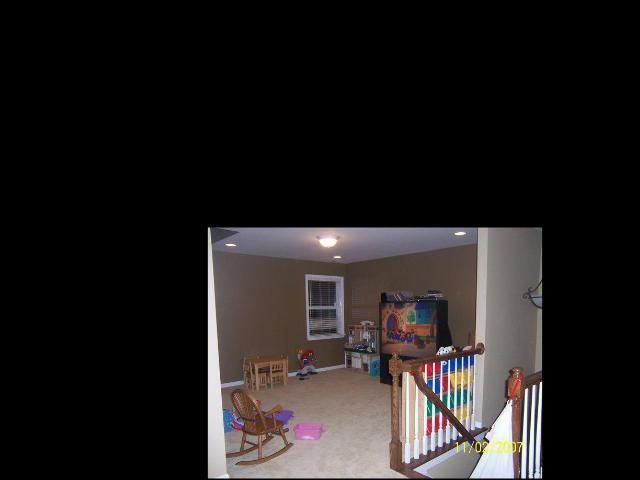Escaleras: (387, 349, 538, 476)
